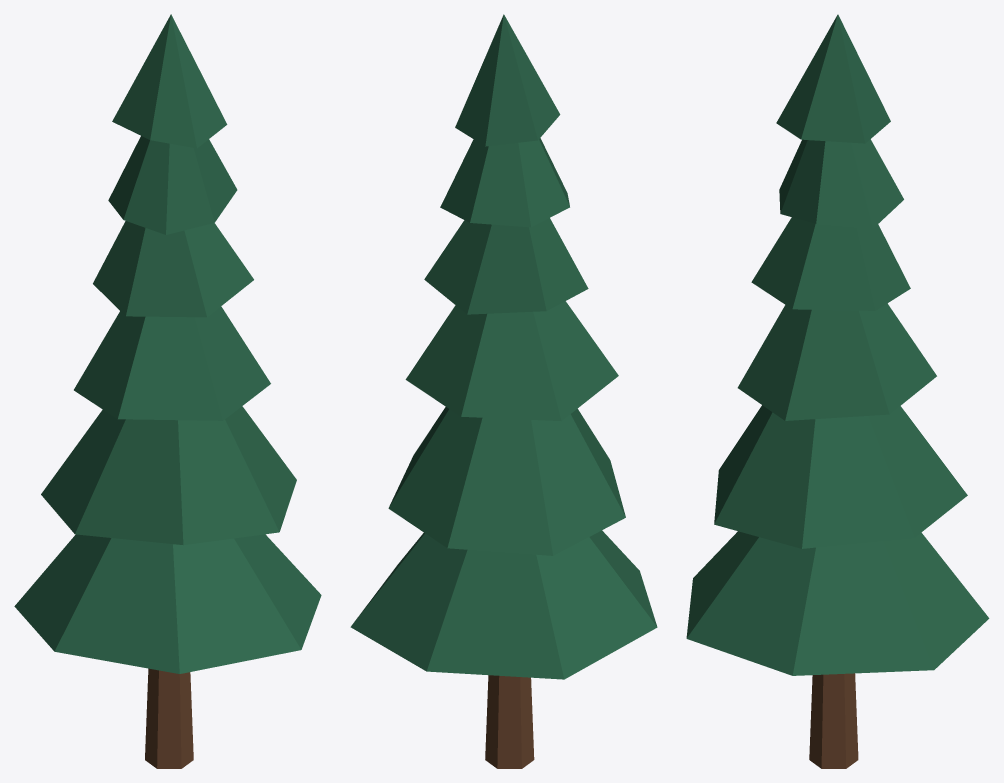
The model's file is PineTall_A.glb.
3 renders of one model, left to right at view 1: azimuth 30°, elevation 25°; view 2: azimuth 150°, elevation 25°; view 3: azimuth 270°, elevation 25°, orthographic.
Visible parts, largest first — view 1: PineTall_A; view 2: PineTall_A; view 3: PineTall_A.
Boxes of the visible parts, left/top/right/bottom form: PineTall_A: left=14, top=14, right=321, bottom=768; PineTall_A: left=350, top=14, right=657, bottom=768; PineTall_A: left=686, top=14, right=989, bottom=768.
Size of the model in its own units: 2.98 by 8.05 by 2.96.
